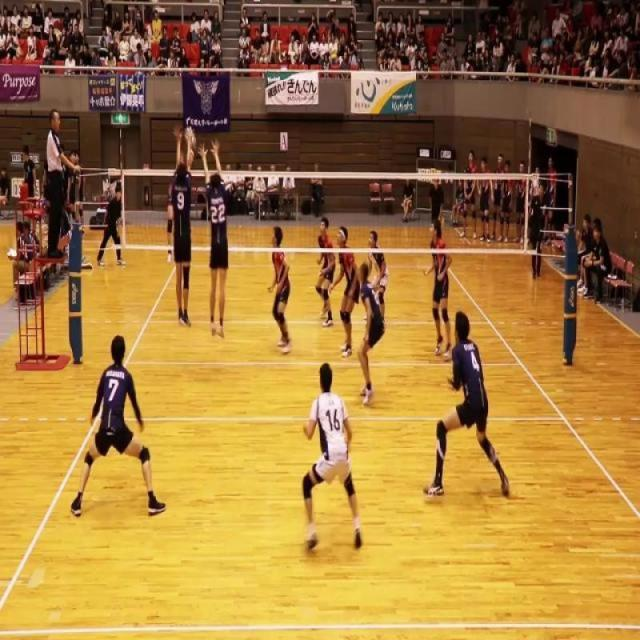volleyball: (184, 126, 197, 150)
